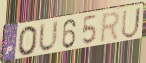5: (81, 13, 99, 47)
6: (61, 18, 77, 50)
O: (18, 25, 39, 57)
R: (99, 10, 122, 45)
U: (120, 6, 143, 39), (38, 20, 60, 54)
